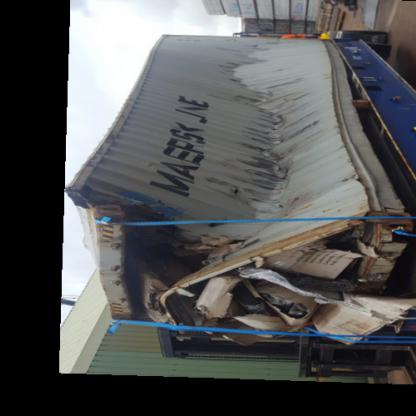Damage: (95, 36, 375, 332)
